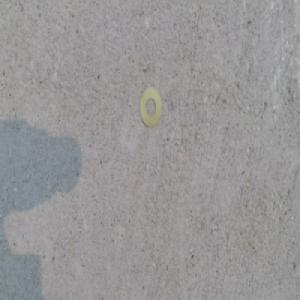Washer: (138, 90, 161, 133)
